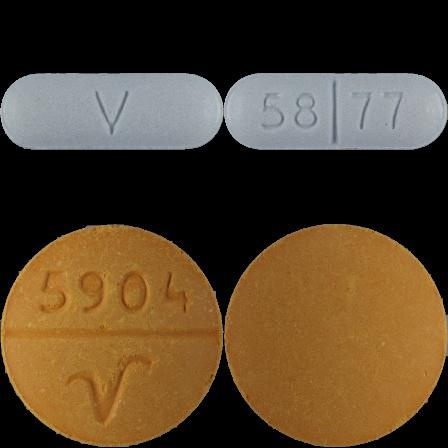0603-5771: (0, 0, 224, 224)
